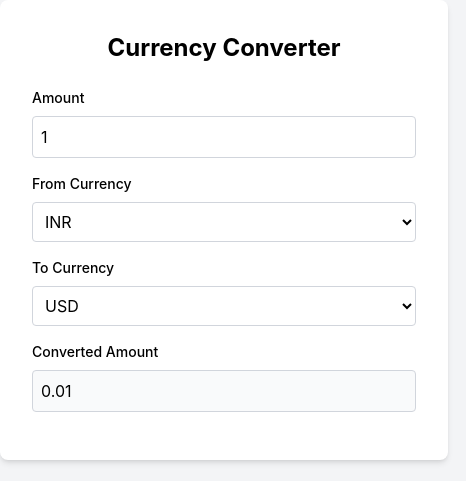
Test: CurrencyConverter › converts currency correctly
Expected: the dropdown showing "INR" is shown, [32,202,416,242]
Replace the text in the number field labelled "Amount" with "100" at x=224, y=137, box [32,116,416,158]
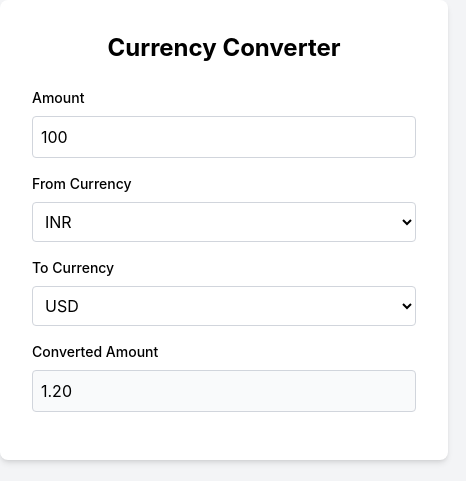
Result: the field labelled "Converted Amount" holds "1.20" at [32,370,416,412]
